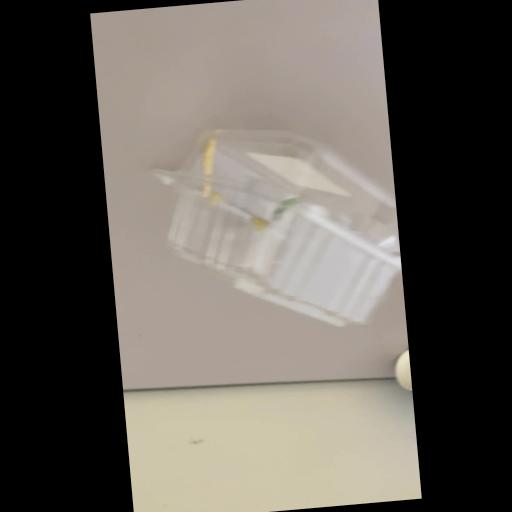small_plastic_container: (148, 108, 405, 344)
